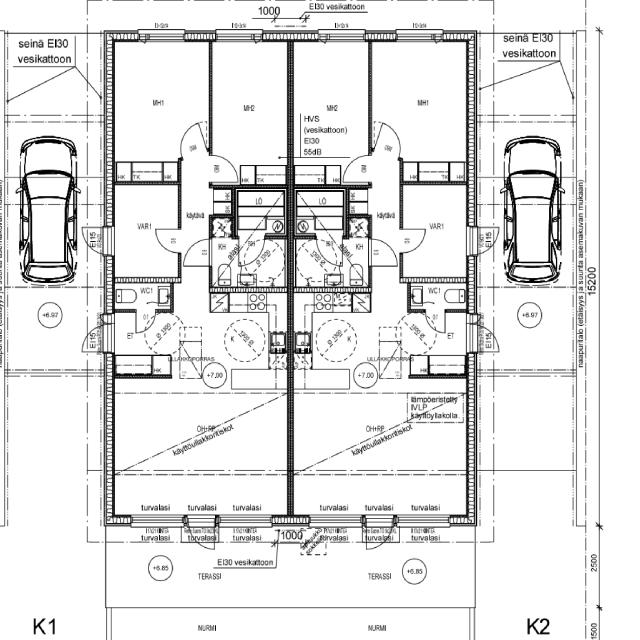door: (172, 123, 205, 160), (373, 123, 406, 160), (467, 225, 505, 255), (365, 515, 393, 554), (76, 226, 113, 255), (187, 514, 214, 552), (468, 324, 503, 352), (78, 325, 113, 352), (209, 154, 239, 183), (315, 234, 342, 266), (343, 155, 372, 182), (184, 239, 213, 265), (238, 235, 264, 264), (369, 240, 397, 265), (399, 229, 425, 252), (155, 230, 181, 252), (135, 309, 155, 333), (426, 308, 445, 332), (94, 312, 113, 324), (468, 313, 486, 323)
